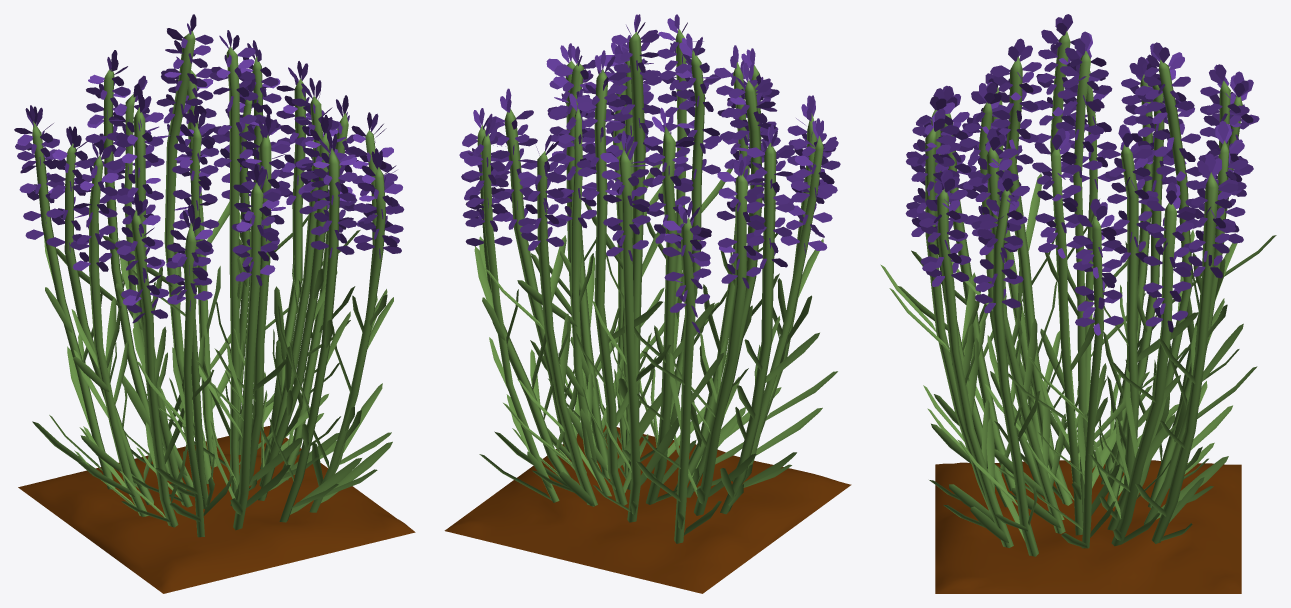
The model's file is lavender-p4-bloom.glb.
3 renders of one model, left to right at view 1: azimuth 30°, elevation 25°; view 2: azimuth 150°, elevation 25°; view 3: azimuth 270°, elevation 25°, orthographic. The views are drawn at different scales.
Visible parts, largest first — view 1: 4_nft_bloom; view 2: 4_nft_bloom; view 3: 4_nft_bloom.
Part boxes in pixels (x1,y1,x2,y2): 4_nft_bloom: (14, 14, 415, 593); 4_nft_bloom: (444, 14, 851, 593); 4_nft_bloom: (880, 14, 1276, 593).
Size of the model in its own units: 0.8599 by 1.27 by 0.9066.
